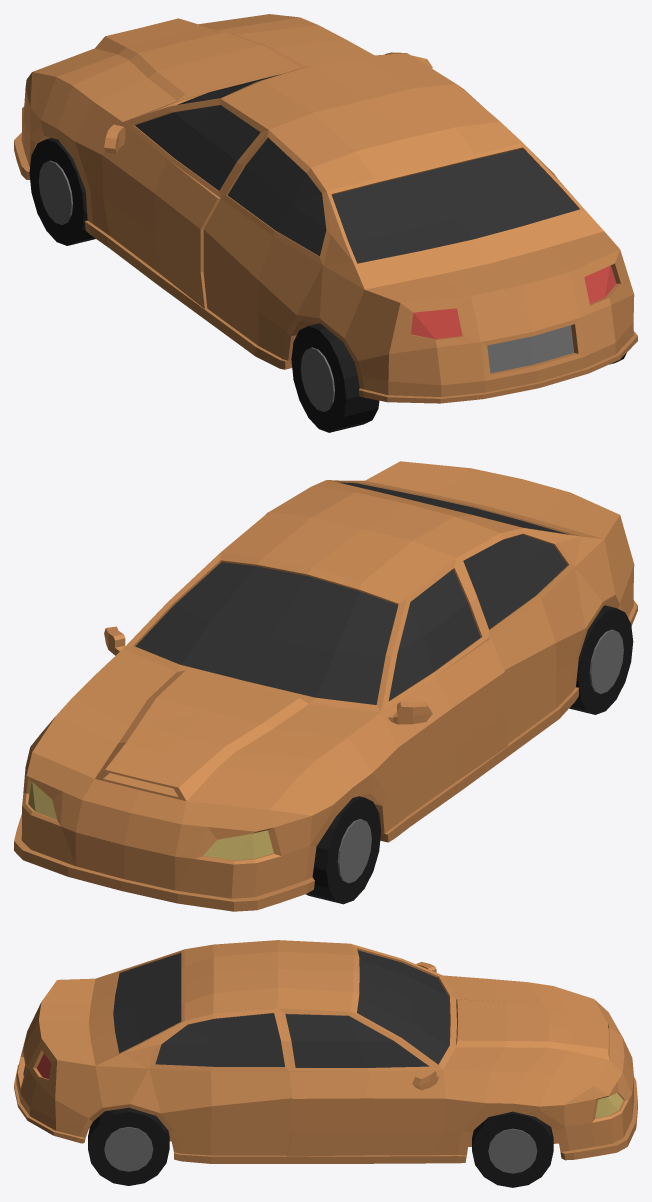
File: coupe.glb
3 renders of one model, top to bottom at view 1: azimuth 30°, elevation 25°; view 2: azimuth 150°, elevation 25°; view 3: azimuth 270°, elevation 25°, orthographic. The views are drawn at different scales.
Visible parts, largest first — view 1: Body, Wheel_RL, Wheel_FL; view 2: Body, Wheel_FL, Wheel_RL; view 3: Body, Wheel_RR, Wheel_FR.
Boxes of the visible parts, x1,y1,x2,y2 form: Body: (14, 14, 637, 403); Wheel_RL: (291, 323, 379, 432); Wheel_FL: (29, 138, 95, 245); Body: (14, 461, 637, 911); Wheel_FL: (306, 796, 381, 904); Wheel_RL: (569, 605, 633, 714); Body: (14, 940, 637, 1163); Wheel_RR: (88, 1107, 169, 1185); Wheel_FR: (472, 1111, 553, 1187).
Bounding box in the file's own units: 2.05 × 1.31 × 4.5.
